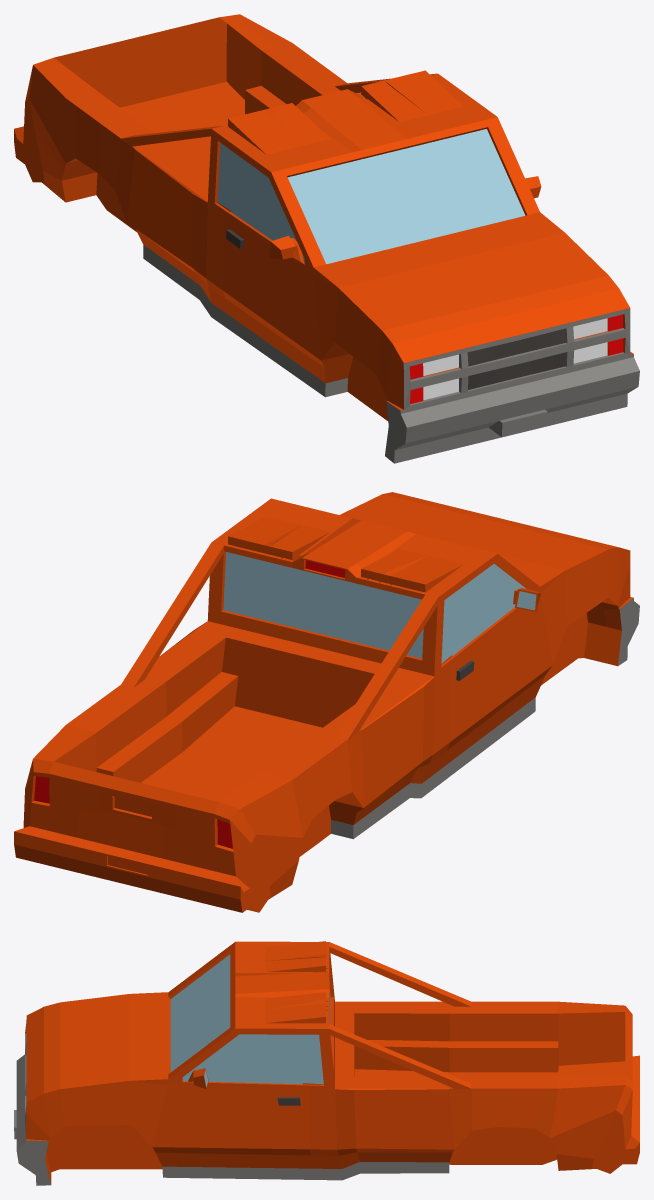
File: Carbody.fbx
3 views of the same model, one above another, from view 1: azimuth 30°, elevation 25°; view 2: azimuth 150°, elevation 25°; view 3: azimuth 270°, elevation 25° (orthographic). The views are drawn at different scales.
Parts seen in each view (by area): view 1: lowpoly:carbody; view 2: lowpoly:carbody; view 3: lowpoly:carbody.
Part boxes in pixels (x1,y1,x2,y2): lowpoly:carbody: [14, 14, 639, 463]; lowpoly:carbody: [14, 492, 639, 912]; lowpoly:carbody: [14, 941, 639, 1185].
Bounding box in the file's own units: 4.36 × 3.21 × 11.23.
Materials: 1 (1 with a texture image).
